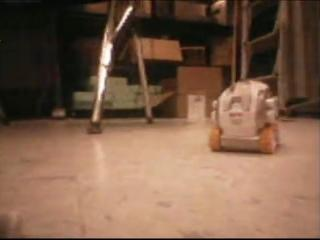cozmo: (208, 77, 280, 154)
